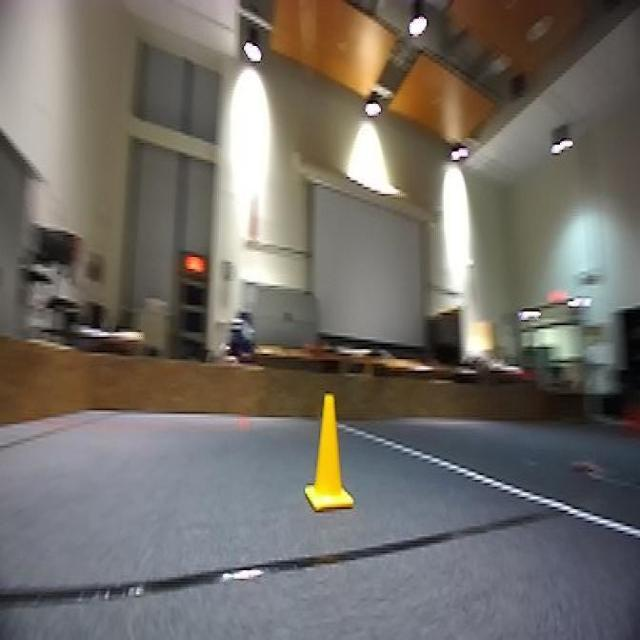frc_cone: (305, 390, 362, 522)
